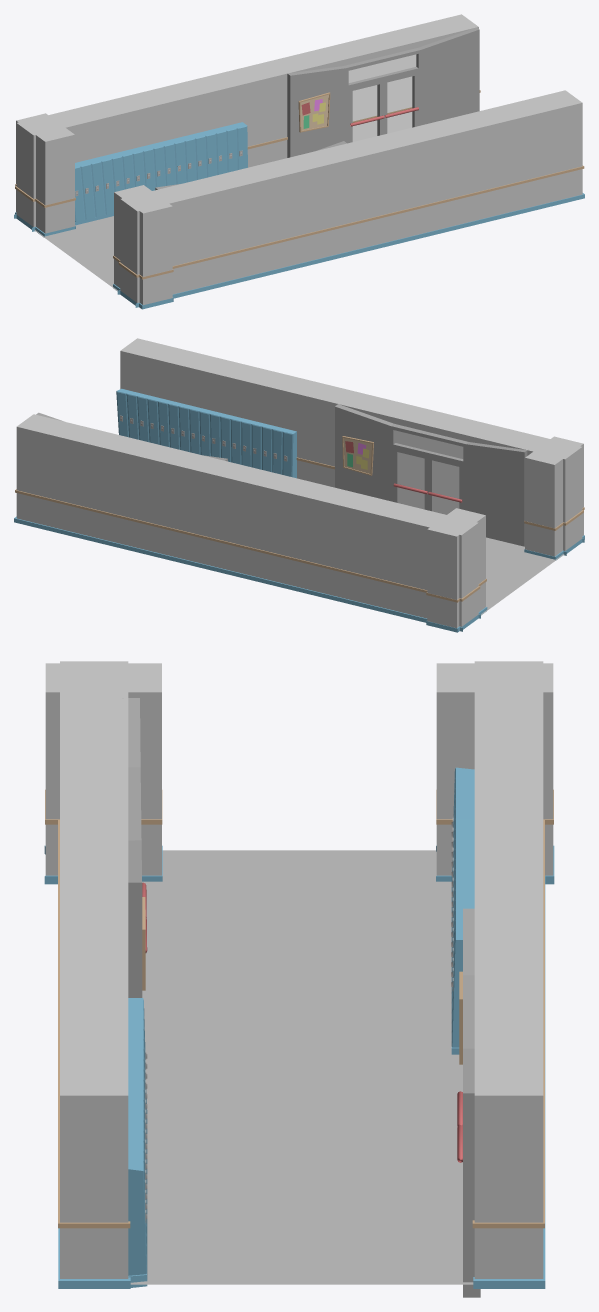
File: Tile4.fbx
3 views of the same model, one above another, from view 1: azimuth 30°, elevation 25°; view 2: azimuth 150°, elevation 25°; view 3: azimuth 270°, elevation 25° (orthographic). The views are drawn at different scales.
Parts seen in each view (by area): view 1: Cube.044; view 2: Cube.044; view 3: Cube.044.
Part boxes in pixels (box(x1,y1,x2,y2)): Cube.044: box(14, 14, 584, 309); Cube.044: box(14, 338, 584, 632); Cube.044: box(44, 661, 554, 1297).
Size of the model in its own units: 3027 by 658 by 1487.
